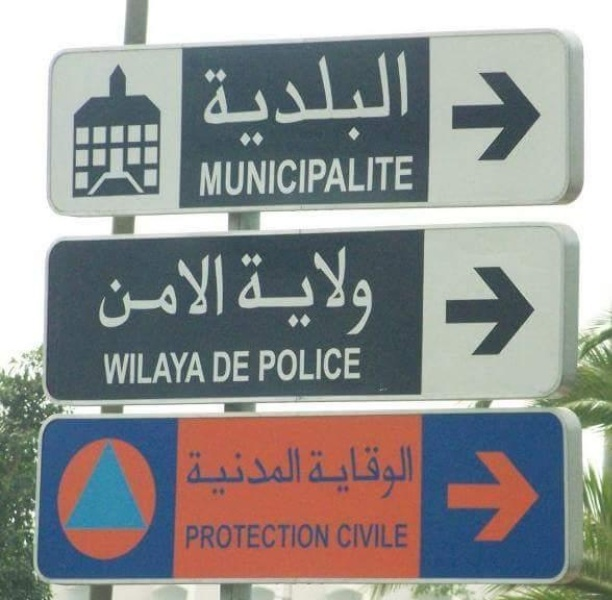text: (209, 45, 224, 148), (225, 45, 240, 148), (241, 45, 256, 148), (257, 45, 272, 148), (273, 45, 288, 148), (289, 45, 304, 148), (305, 45, 320, 148), (321, 45, 336, 148), (337, 45, 352, 148), (353, 45, 368, 148), (369, 45, 384, 148), (385, 45, 400, 148), (241, 243, 256, 338), (257, 243, 272, 338), (273, 243, 288, 338), (289, 243, 304, 338), (305, 243, 320, 338), (321, 243, 336, 338), (337, 243, 352, 338), (353, 243, 368, 338), (97, 251, 112, 330), (113, 251, 128, 330), (129, 251, 144, 330), (145, 251, 160, 330), (161, 251, 176, 330), (177, 251, 192, 330), (193, 251, 208, 330), (209, 251, 224, 330), (197, 45, 208, 148), (401, 439, 417, 501), (305, 439, 320, 501), (321, 439, 336, 501), (337, 439, 352, 501), (353, 439, 368, 501), (369, 439, 384, 501), (385, 439, 400, 501), (401, 45, 410, 148), (193, 445, 208, 499), (209, 445, 224, 499), (225, 445, 240, 499), (241, 445, 256, 499), (257, 445, 272, 499), (273, 445, 288, 499), (289, 445, 304, 499), (209, 152, 224, 197), (225, 152, 240, 197), (241, 152, 256, 197), (257, 152, 272, 197), (273, 152, 288, 197), (289, 152, 304, 197), (305, 152, 320, 197), (321, 152, 336, 197), (337, 152, 352, 197), (353, 152, 368, 197), (369, 152, 384, 197), (385, 152, 400, 197), (401, 152, 416, 197), (233, 243, 240, 338), (257, 344, 272, 385), (273, 344, 288, 385), (289, 344, 304, 385), (305, 344, 320, 385), (321, 344, 336, 385), (337, 344, 352, 385), (369, 243, 375, 338), (193, 351, 209, 386), (337, 517, 352, 554), (353, 517, 368, 554), (369, 517, 384, 554), (385, 517, 400, 554), (225, 348, 240, 384), (113, 351, 128, 386), (129, 351, 144, 386), (145, 351, 160, 386), (161, 351, 176, 386), (177, 351, 192, 386), (193, 520, 208, 555), (209, 520, 224, 555), (225, 520, 240, 555), (241, 520, 256, 555), (257, 520, 272, 555), (273, 520, 288, 555), (289, 520, 304, 555), (305, 520, 320, 555), (321, 520, 336, 555), (401, 517, 414, 554), (353, 344, 364, 385), (212, 348, 224, 384), (199, 152, 208, 197), (101, 351, 112, 386), (241, 348, 251, 384), (184, 520, 192, 555), (187, 445, 192, 499), (305, 445, 308, 499), (225, 251, 227, 330), (302, 439, 304, 501), (95, 251, 96, 330), (335, 517, 336, 554)
